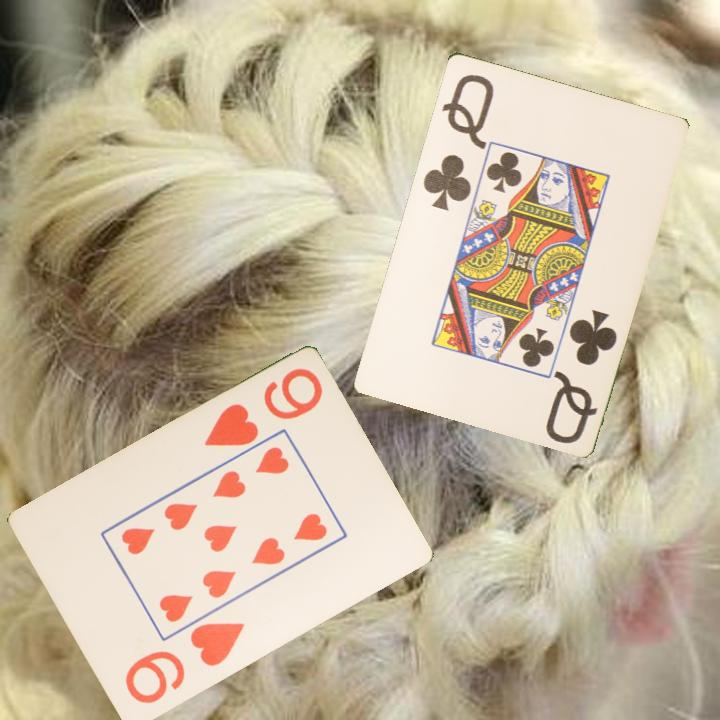9h: (121, 619, 247, 708), (200, 364, 326, 450)
Qc: (541, 305, 620, 447), (419, 70, 497, 213)
